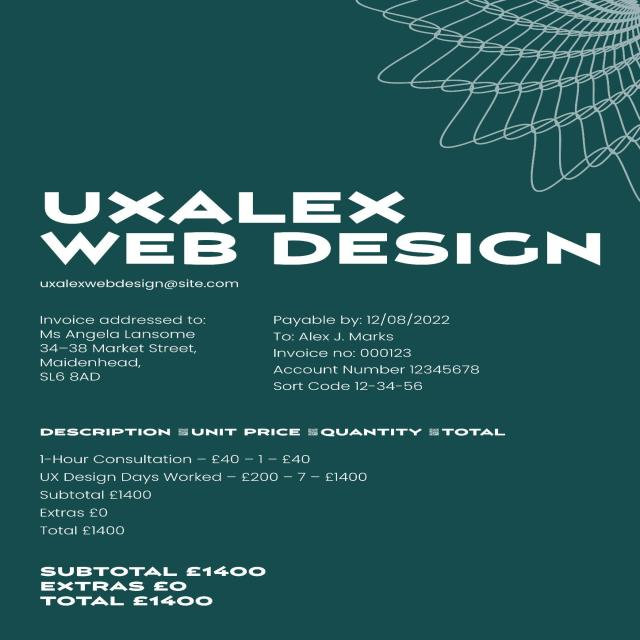paragraph: (28, 184, 618, 276), (270, 314, 485, 398), (31, 314, 207, 382), (40, 563, 268, 608), (32, 278, 242, 290)
table: (39, 426, 508, 538)
